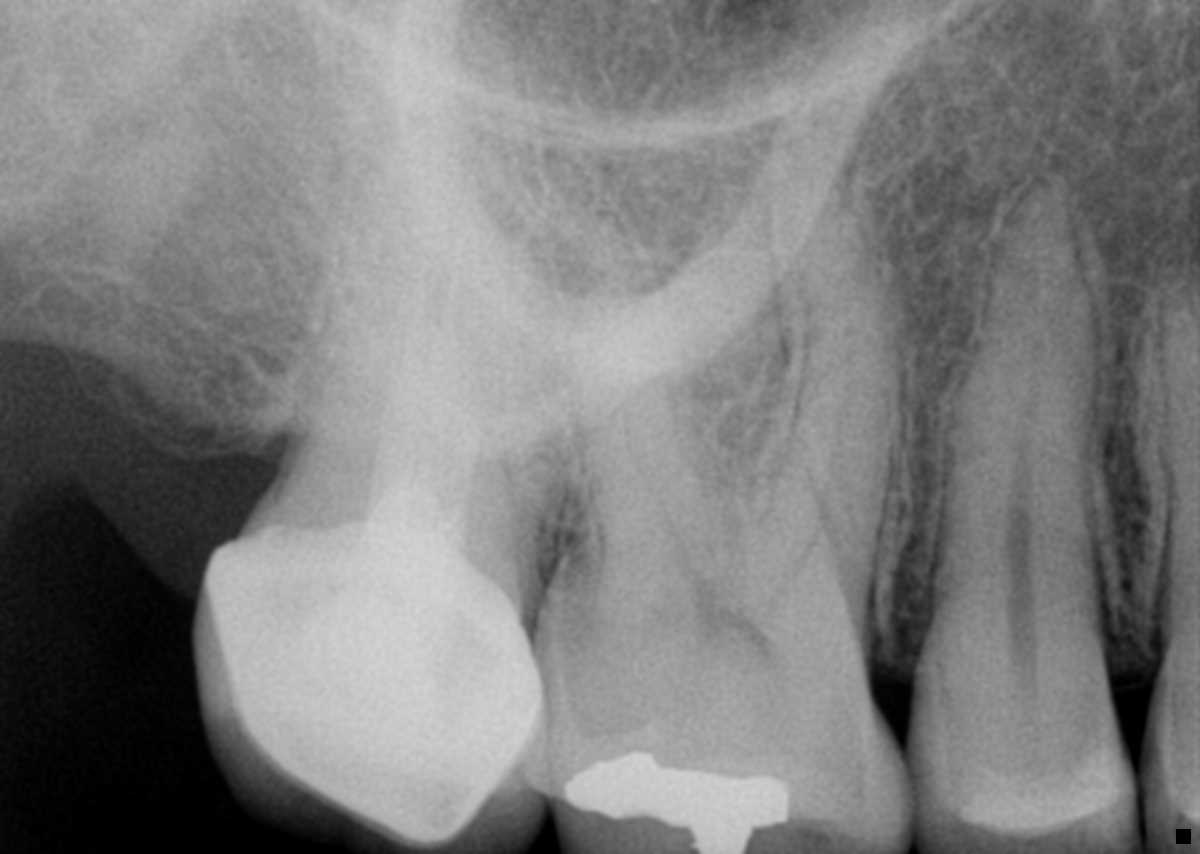Distal Root: (558, 203, 726, 571)
Main Canal: (1001, 310, 1045, 671)
Main Root: (285, 0, 579, 519), (916, 181, 1107, 682), (1158, 252, 1200, 640)
Mesial Root: (752, 124, 905, 594)
Palatal Root: (551, 35, 836, 586)
Root Canal Filling: (376, 241, 494, 499)
